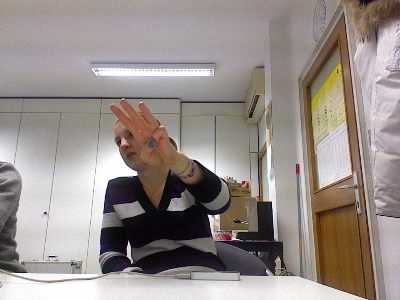三分: (109, 97, 177, 166)
